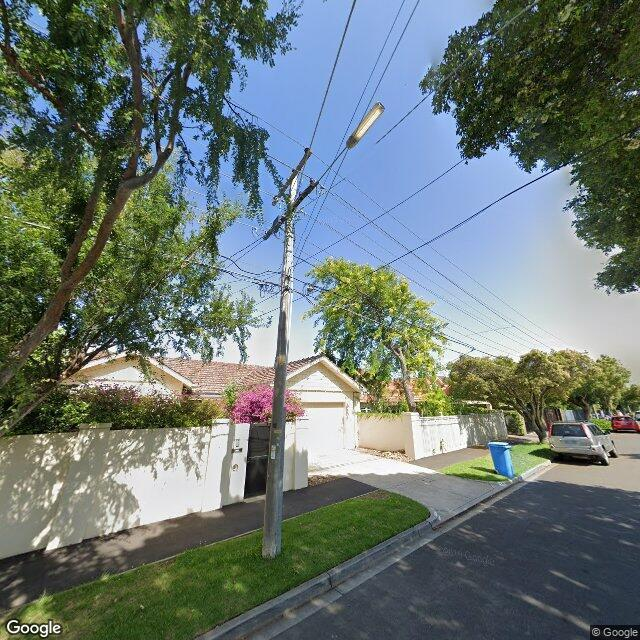HV-transmission: (273, 147, 313, 205)
crossarm: (264, 181, 316, 241), (272, 150, 313, 206)
streetlight: (316, 102, 386, 182)
timber-pole: (262, 168, 298, 560)
